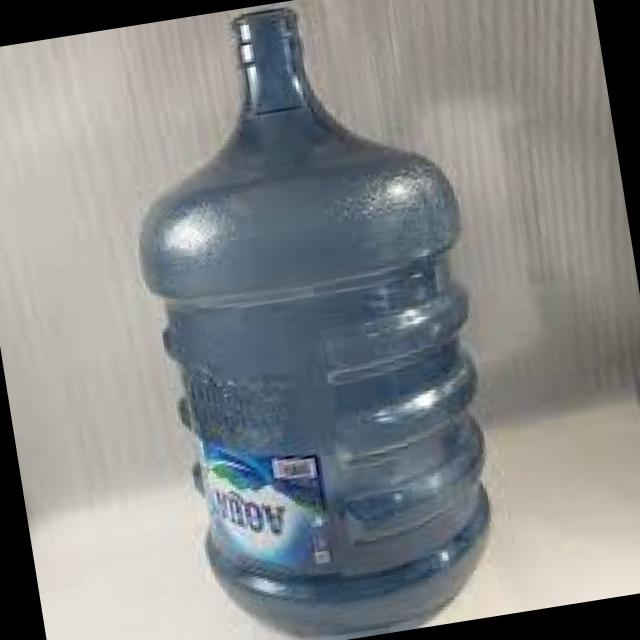Galon: (100, 0, 523, 640)
